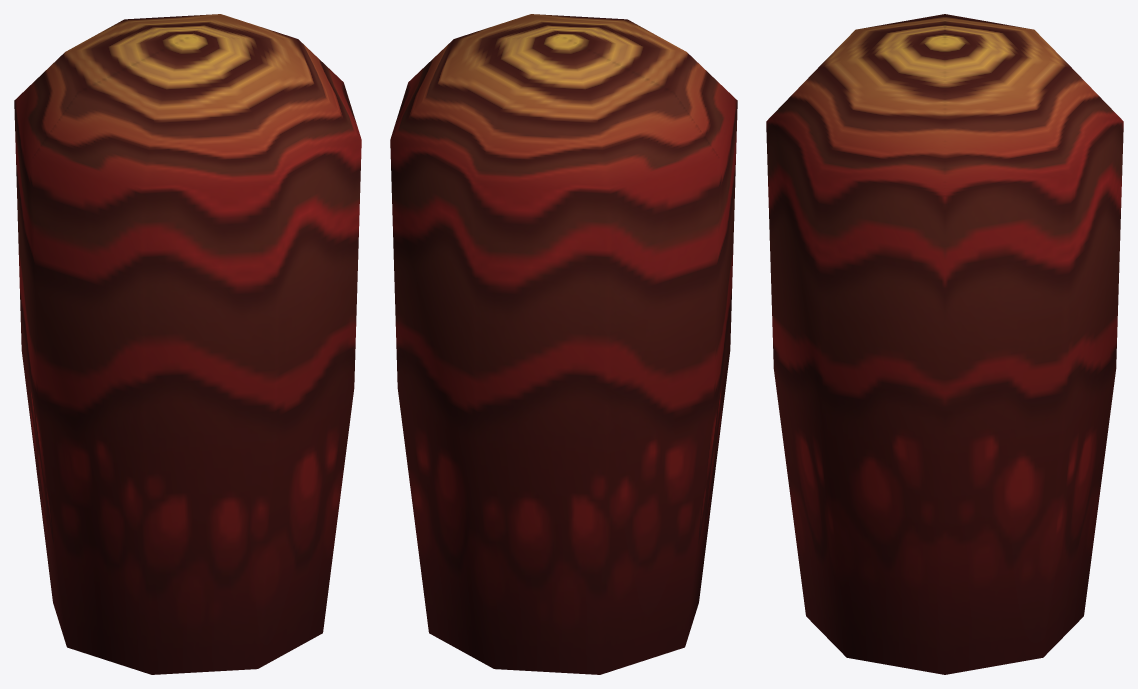
The model's file is Coral_29d.FBX.
3 renders of one model, left to right at view 1: azimuth 30°, elevation 25°; view 2: azimuth 150°, elevation 25°; view 3: azimuth 270°, elevation 25°, orthographic.
Visible parts, largest first — view 1: Coral_29d; view 2: Coral_29d; view 3: Coral_29d.
Boxes of the visible parts, x1,y1,x2,y2 form: Coral_29d: (14, 14, 361, 674); Coral_29d: (390, 14, 737, 674); Coral_29d: (766, 14, 1123, 674).
Size of the model in its own units: 11.22 by 19.97 by 11.22.
